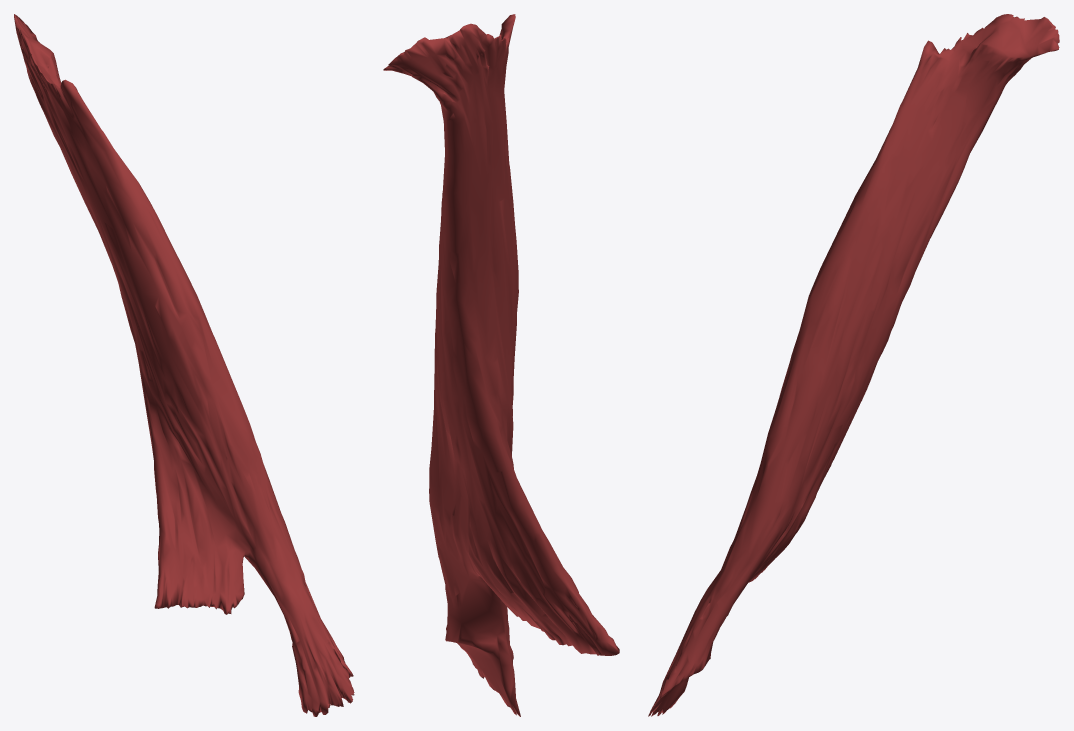
File: sternocleidomastoid-muscle-r.glb
3 views of the same model, side by side, from view 1: azimuth 30°, elevation 25°; view 2: azimuth 150°, elevation 25°; view 3: azimuth 270°, elevation 25° (orthographic). The views are drawn at different scales.
Visible parts, largest first — view 1: Sternocleidomastoid muscle.r; view 2: Sternocleidomastoid muscle.r; view 3: Sternocleidomastoid muscle.r.
Part boxes in pixels (left/top/right/bottom): Sternocleidomastoid muscle.r: left=14, top=14, right=354, bottom=716; Sternocleidomastoid muscle.r: left=383, top=14, right=619, bottom=716; Sternocleidomastoid muscle.r: left=648, top=14, right=1059, bottom=716.
Bounding box in the file's own units: 0.0578 × 0.1937 × 0.1137.
